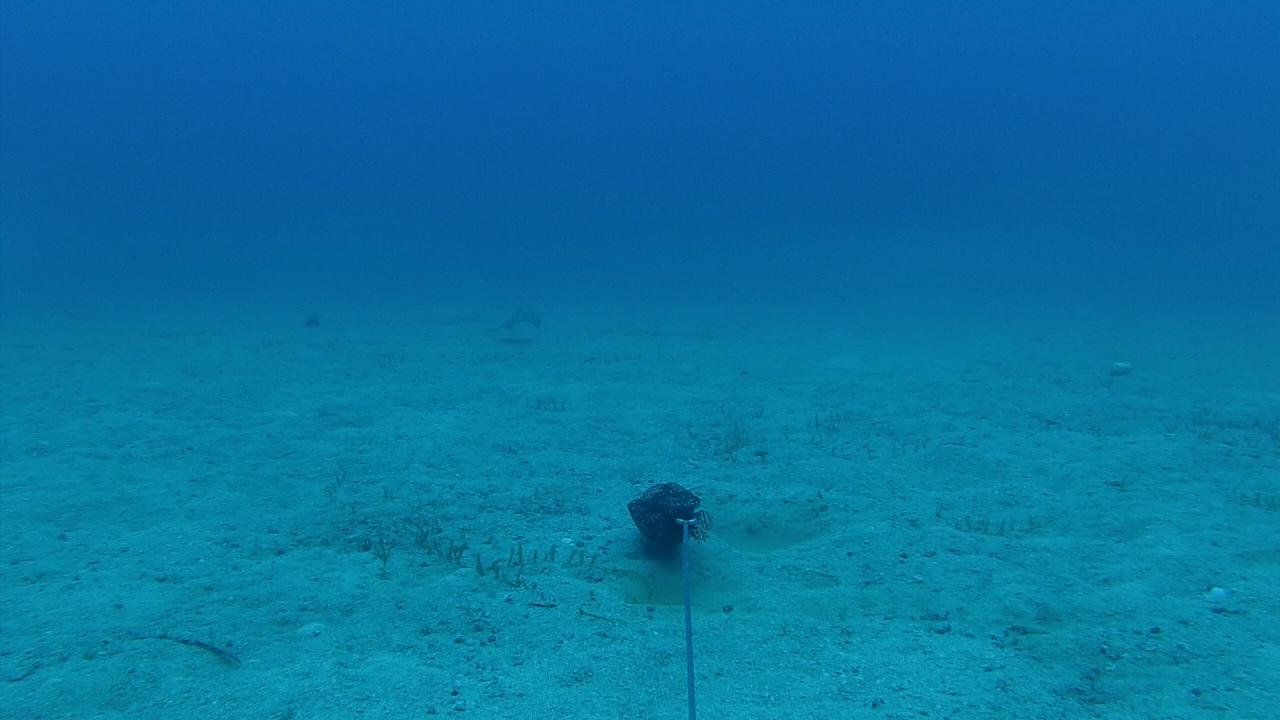dasyatis: (484, 306, 542, 334)
